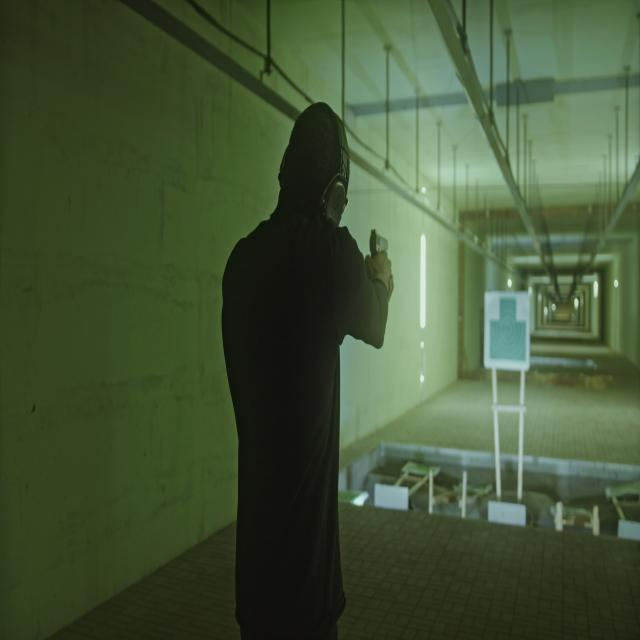Gun_Holder: (363, 224, 407, 303)
Person: (221, 86, 393, 636)
